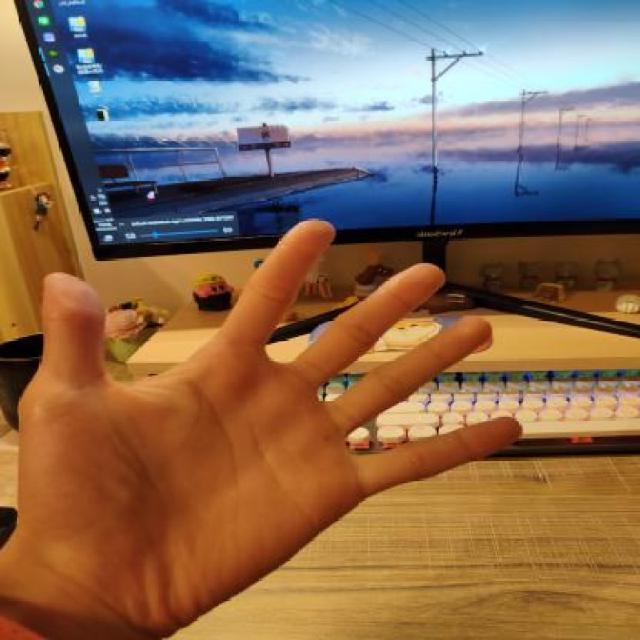bare_hand: (2, 200, 536, 636)
